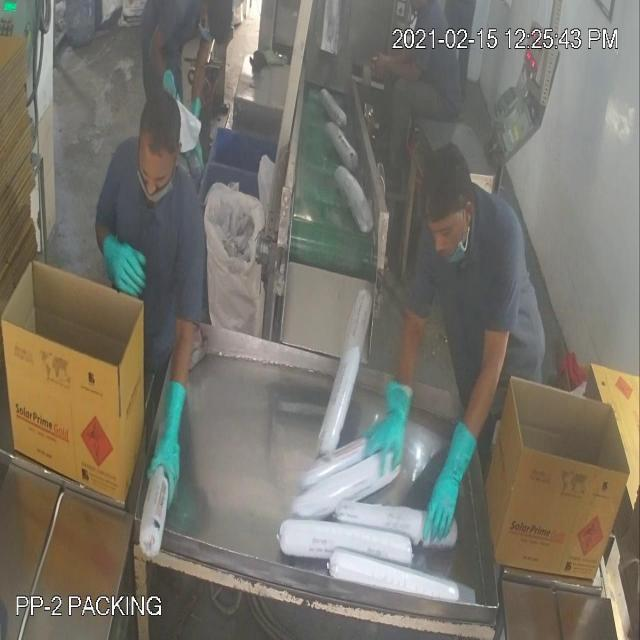Gloves: (47, 54, 452, 484)
